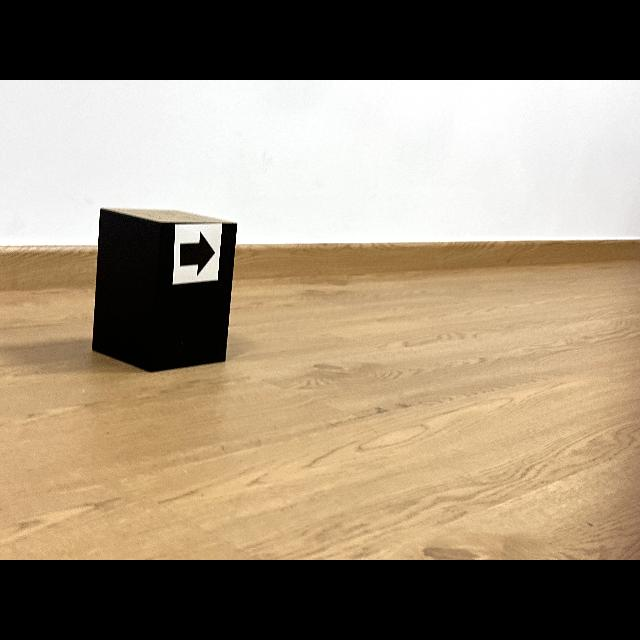RIGHT: (180, 232, 215, 274)
